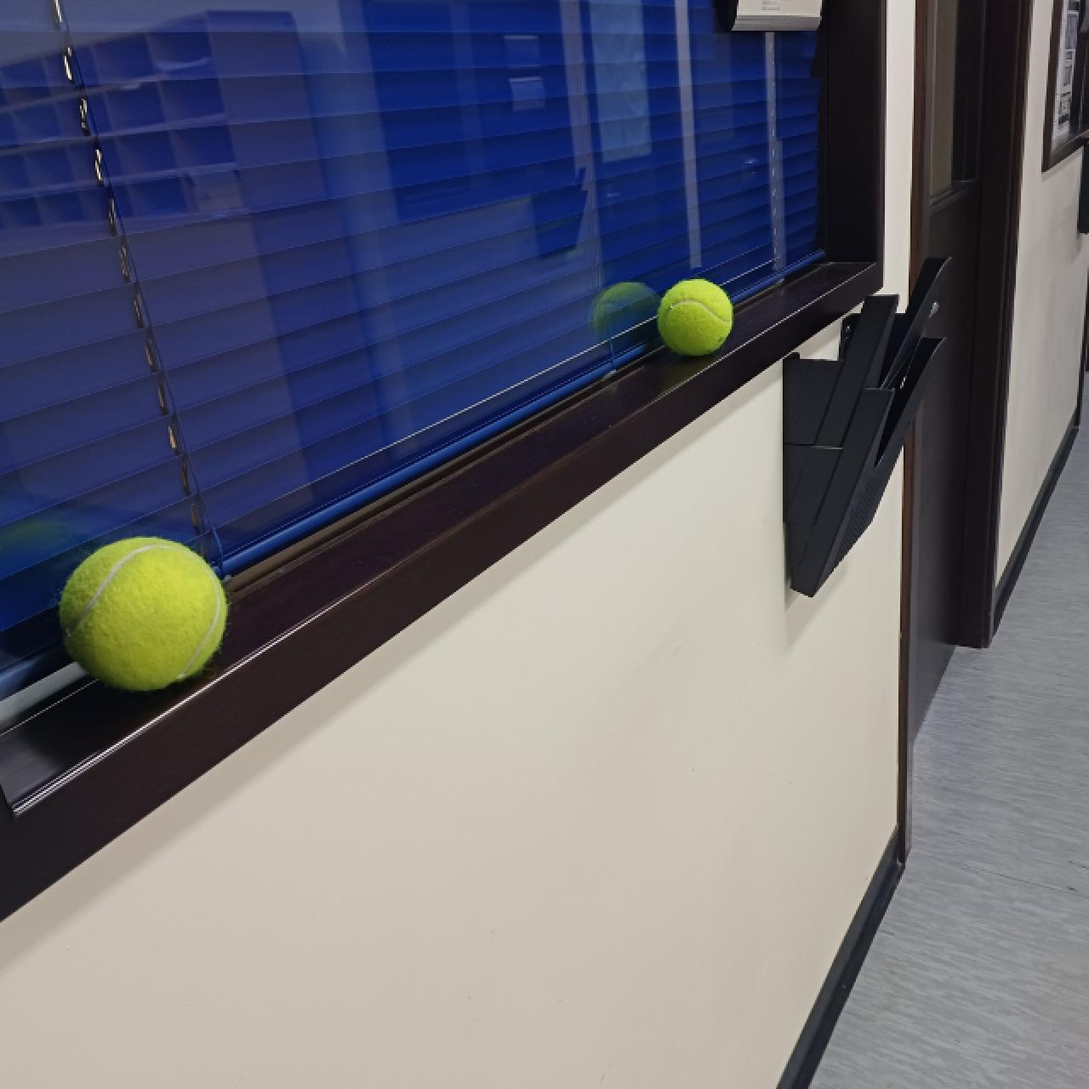tennis-ball: (56, 529, 229, 698), (653, 271, 736, 359)
